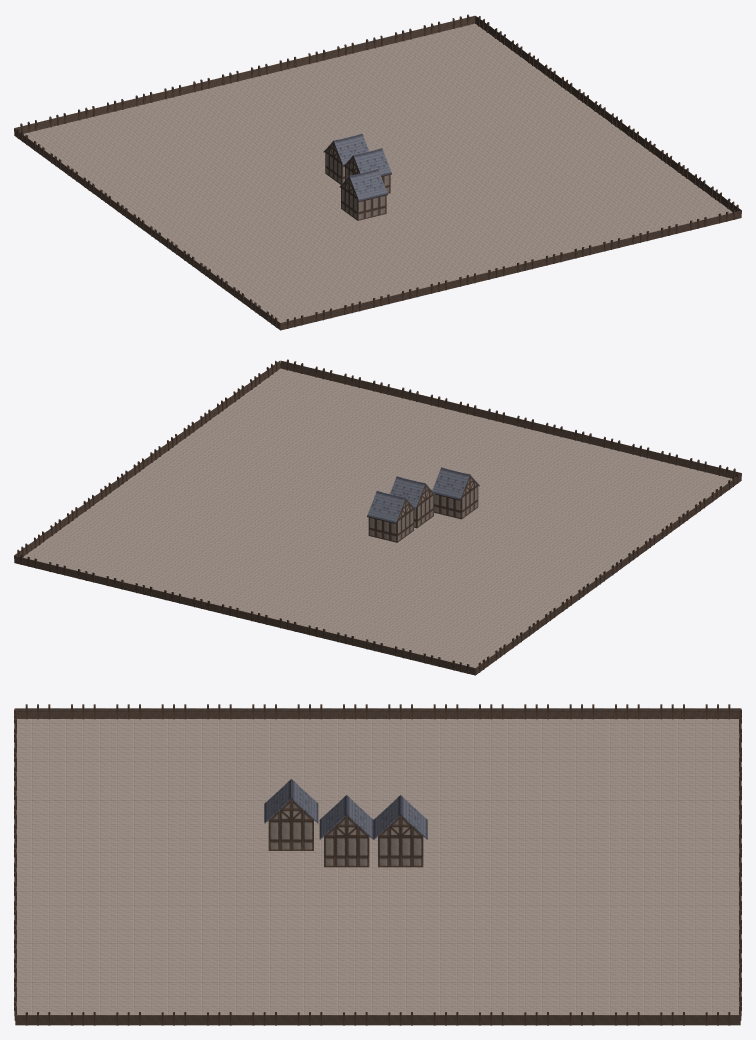
3 renders of one model, top to bottom at view 1: azimuth 30°, elevation 25°; view 2: azimuth 150°, elevation 25°; view 3: azimuth 270°, elevation 25°, orthographic. The views are drawn at different scales.
Visible parts, largest first — view 1: stone_floor_4x4, plaster_wall.002, plaster_wall, plaster_wall.001; view 2: stone_floor_4x4, plaster_wall, plaster_wall.002, plaster_wall.001; view 3: stone_floor_4x4, plaster_wall, plaster_wall.001, plaster_wall.002, overhang_large.053, overhang_large.054, overhang_large.055, overhang_large.056, overhang_large.057, overhang_large.058, overhang_large.059, overhang_large.060 (+13 smaller).
Part boxes in pixels (x1,y1,x2,y2): stone_floor_4x4: (23, 23, 732, 322); plaster_wall.002: (339, 169, 387, 220); plaster_wall: (323, 133, 369, 184); plaster_wall.001: (343, 148, 391, 193); stone_floor_4x4: (23, 368, 732, 668); plaster_wall: (367, 490, 415, 542); plaster_wall.002: (432, 467, 479, 519); plaster_wall.001: (390, 476, 435, 528); stone_floor_4x4: (16, 719, 739, 1014); plaster_wall: (373, 795, 427, 867); plaster_wall.001: (319, 795, 373, 867); plaster_wall.002: (264, 779, 318, 850); overhang_large.053: (60, 704, 105, 719); overhang_large.054: (106, 704, 151, 719); overhang_large.055: (151, 704, 196, 719); overhang_large.056: (196, 704, 241, 719); overhang_large.057: (242, 704, 287, 719); overhang_large.058: (287, 704, 332, 719); overhang_large.059: (332, 704, 377, 719); overhang_large.060: (378, 704, 423, 719).
Size of the model in its own units: 64.28 by 5.2 by 64.24.
Materials: 4 (4 with a texture image).
